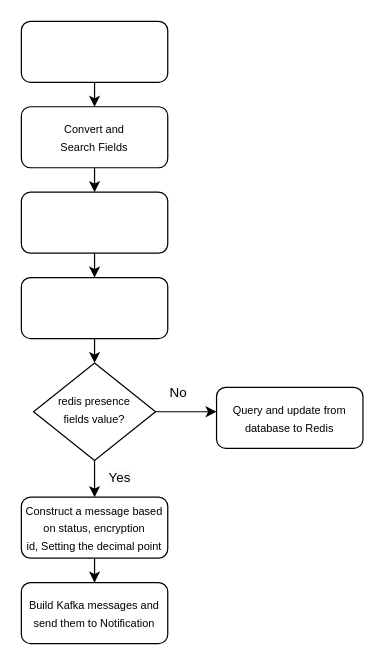
Some shapes in this 384 by 665 pixel diagram are drawn without their labels. Each missing label, with the centre of its shape:
Get fields from Match Engine kafka message: the point at 94,51
Get user id based on user_id(login): the point at 94,307
Through symbol(ticker code) to obtain ticket name and market id: the point at 94,222
